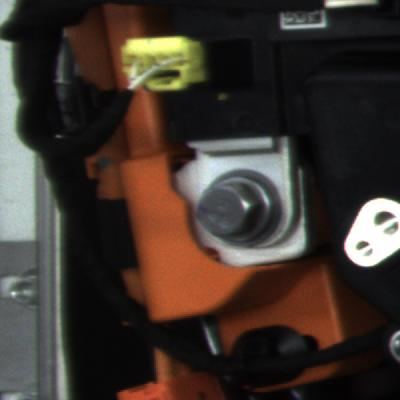nut_b: (190, 161, 305, 259)
